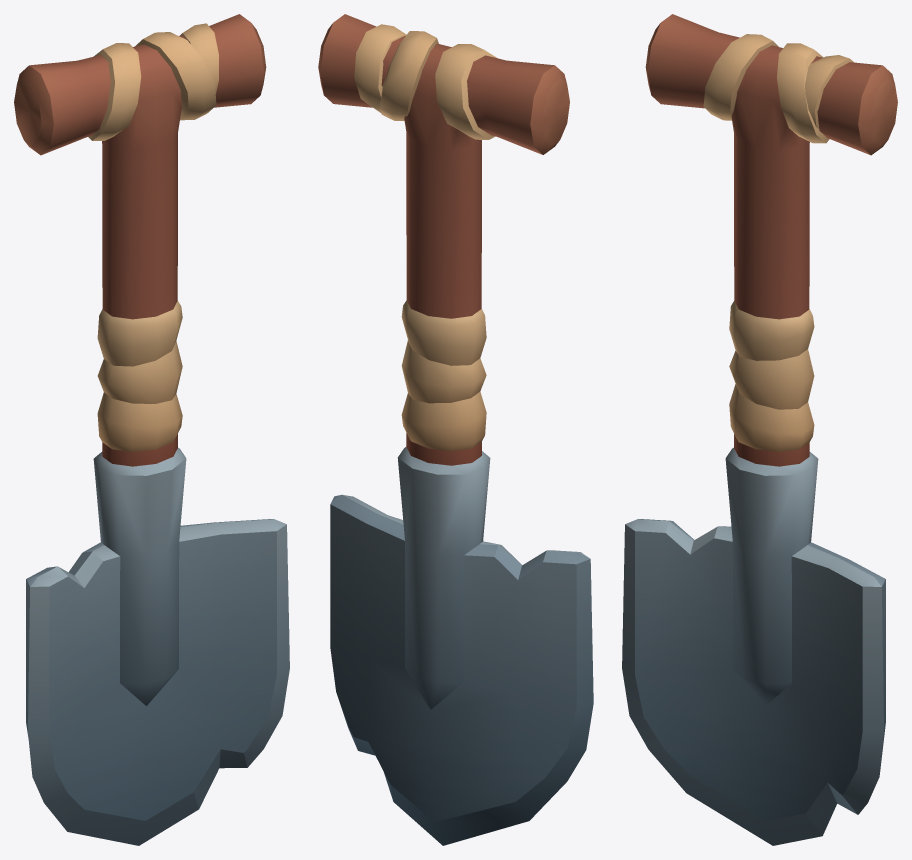
The model's file is prop_shovel.glb.
3 renders of one model, left to right at view 1: azimuth 30°, elevation 25°; view 2: azimuth 150°, elevation 25°; view 3: azimuth 330°, elevation 25°, orthographic.
Visible parts, largest first — view 1: shovel; view 2: shovel; view 3: shovel.
Part boxes in pixels (x1=…): shovel: x1=14, y1=14, x2=289, y2=845; shovel: x1=318, y1=14, x2=593, y2=845; shovel: x1=622, y1=14, x2=897, y2=845.
Size of the model in its own units: 0.5381 by 1.58 by 0.1563.
Materials: 1 (1 with a texture image).
